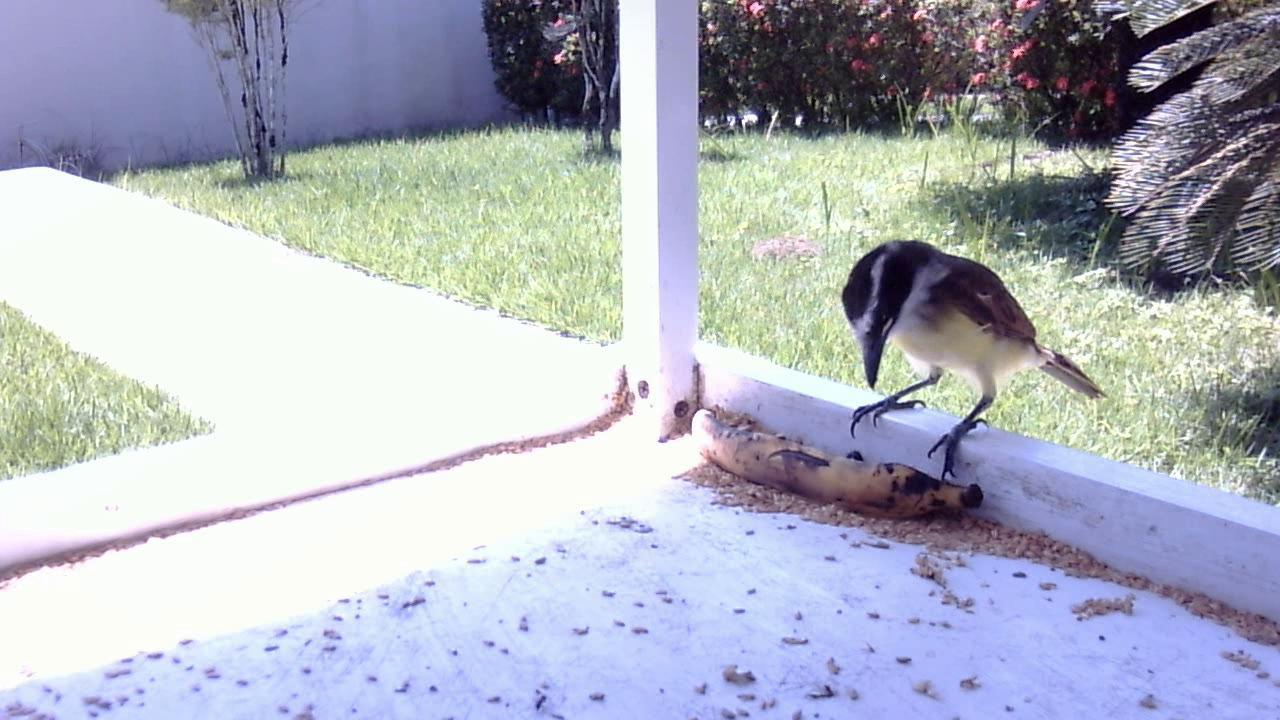bem_te_vi: (832, 225, 1107, 498)
